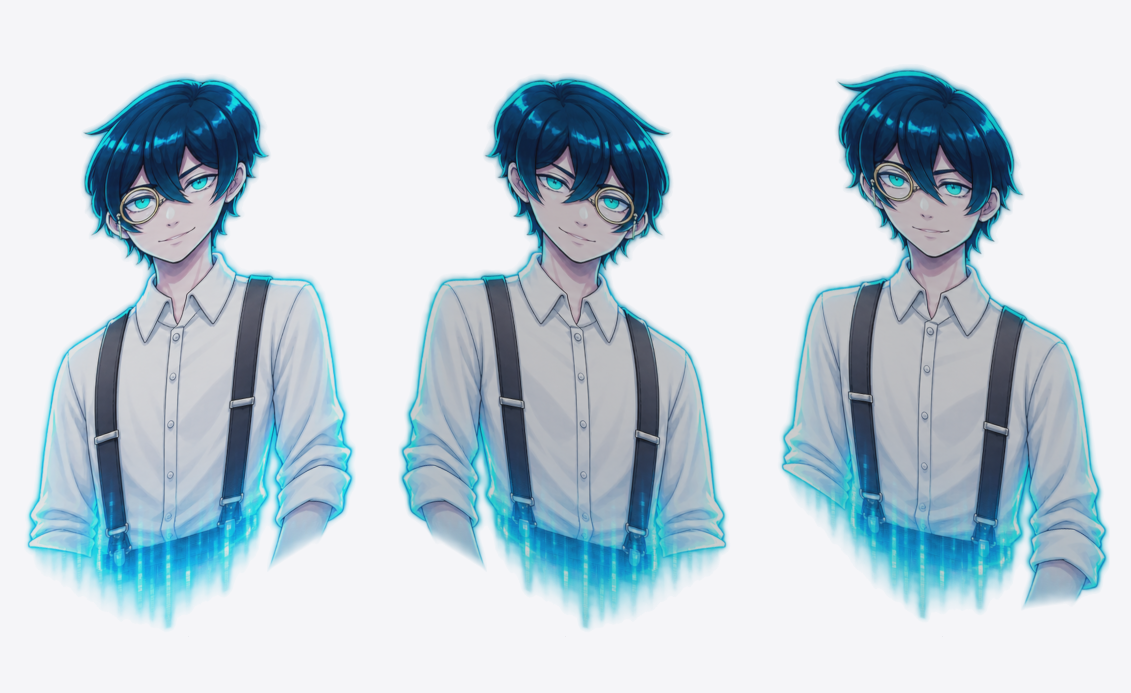
The model's file is iskin-projection-billboard.glb.
3 renders of one model, left to right at view 1: azimuth 30°, elevation 25°; view 2: azimuth 150°, elevation 25°; view 3: azimuth 330°, elevation 25°, orthographic.
Parts seen in each view (by area): view 1: Искин · поза ожидания; view 2: Искин · поза ожидания; view 3: Искин · поза ожидания.
Part boxes in pixels (box(x1,y1,x2,y2)): Искин · поза ожидания: box(26, 76, 354, 628); Искин · поза ожидания: box(399, 76, 727, 628); Искин · поза ожидания: box(780, 67, 1108, 618).
Size of the model in its own units: 1.08 by 1.72 by 0.
4 materials, 4 textured.
